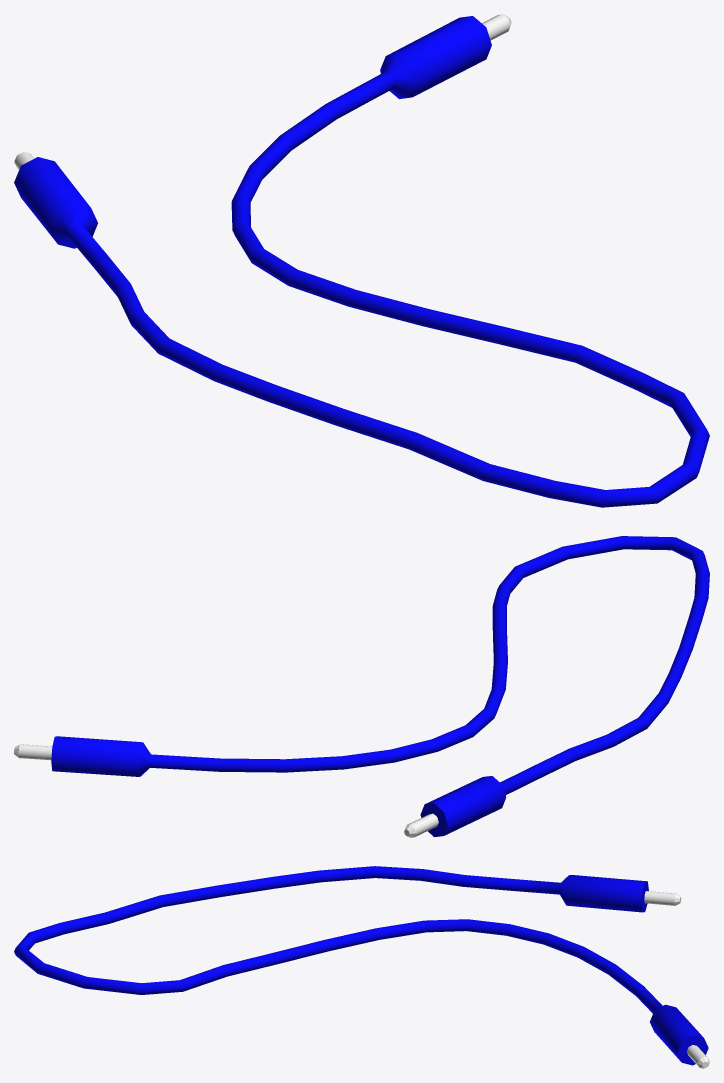
File: ElectroWires01_3.FBX
The picture shows the model from 3 angles, top to bottom: view 1: azimuth 30°, elevation 25°; view 2: azimuth 150°, elevation 25°; view 3: azimuth 270°, elevation 25°; orthographic projection. The views are drawn at different scales.
Visible parts, largest first — view 1: Wire01; view 2: Wire01; view 3: Wire01.
Boxes of the visible parts, left/top/right/bottom form: Wire01: left=14, top=14, right=709, bottom=507; Wire01: left=14, top=536, right=709, bottom=837; Wire01: left=14, top=866, right=709, bottom=1068.
Size of the model in its own units: 38.36 by 2.77 by 57.61.
